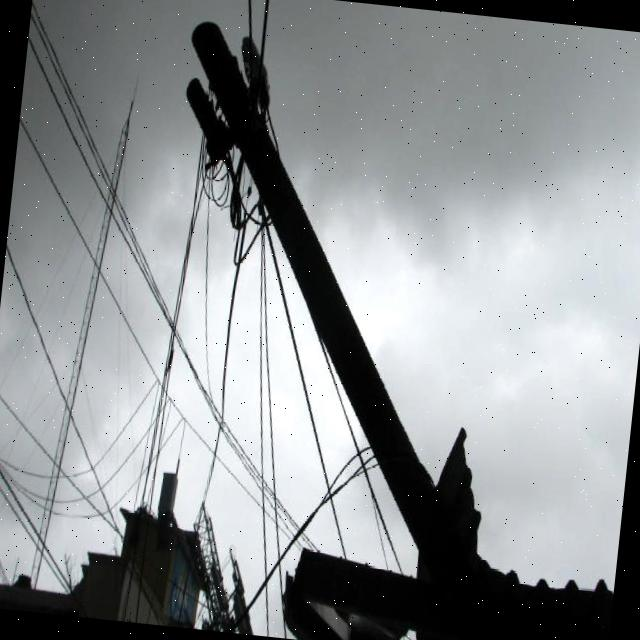Broken Pole: (181, 19, 436, 552)
